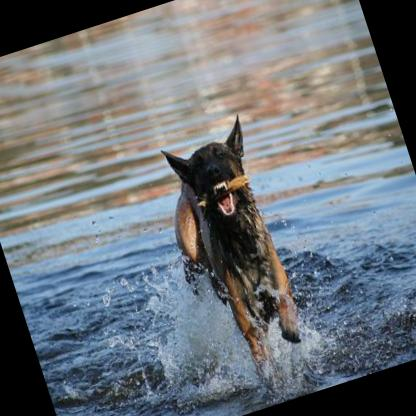malinois: (143, 112, 314, 376)
